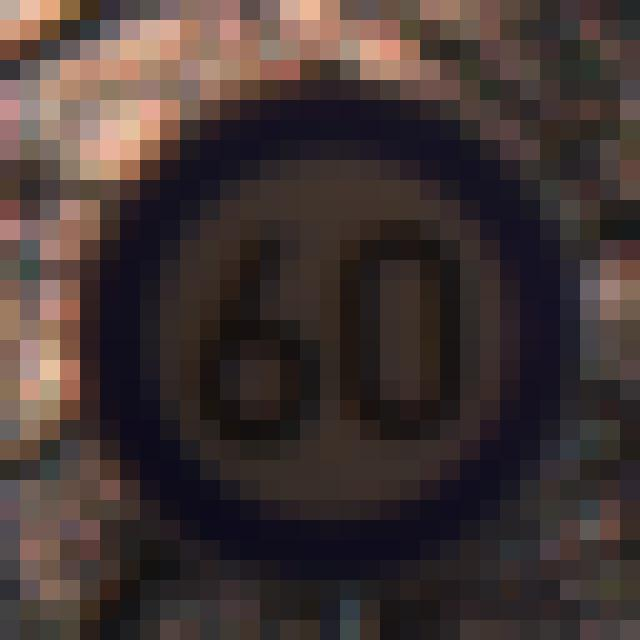SPEED-LIMIT-60: (69, 48, 578, 584)
